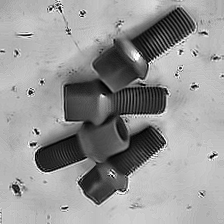holes: (172, 29, 224, 93), (44, 1, 91, 43), (5, 30, 37, 60), (5, 174, 31, 200), (25, 76, 46, 100), (24, 124, 42, 151), (195, 184, 210, 204), (205, 149, 222, 166), (58, 202, 70, 214)
